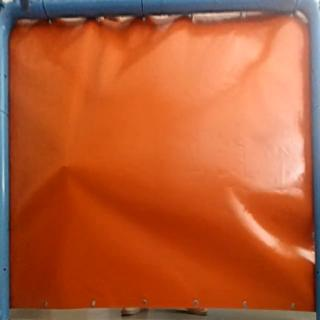Hit-hRxx: (57, 157, 75, 173)
